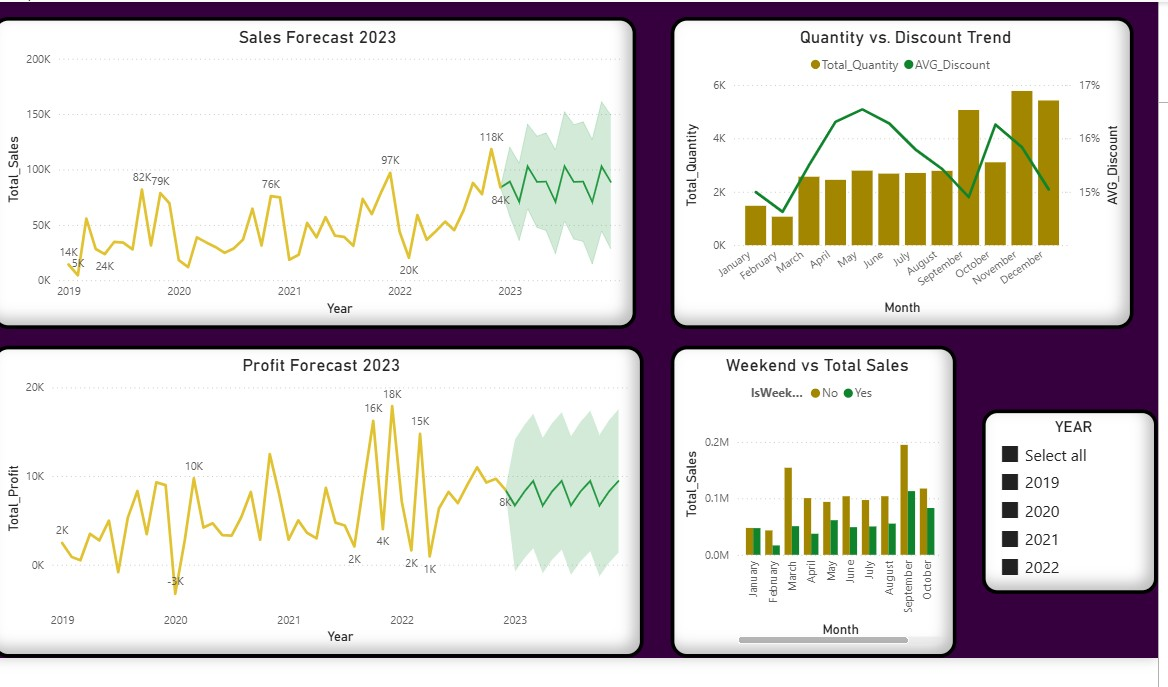

What the dashboard file says about the page in this screenshot:
{"tool":"powerbi","page":{"name":"Sales & Profit Trends","canvas":[1280,720],"ordinal":1},"visuals":[{"type":"lineChart","title":"Sales Forecast 2023","fields":{"Y":["superstore_dataset.Total_Sales"],"Category":["DateTable.Date.Variation.Date Hierarchy.Year","DateTable.Date.Variation.Date Hierarchy.Month"]},"box":[0,16.9,707,342.6],"z":0},{"type":"lineChart","title":"Profit Forecast 2023","fields":{"Category":["DateTable.Date.Variation.Date Hierarchy.Year","DateTable.Date.Variation.Date Hierarchy.Month"],"Y":["superstore_dataset.Total_Profit"]},"box":[0,377.6,715.4,342.6],"z":1000},{"type":"lineStackedColumnComboChart","title":"Quantity vs. Discount Trend","fields":{"Category":["DateTable.Date.Variation.Date Hierarchy.Month"],"Y":["superstore_dataset.Total_Quantity"],"Y2":["superstore_dataset.AVG_Discount"]},"box":[745.6,16.9,507.9,342.6],"z":2000},{"type":"slicer","title":"YEAR","fields":{"Values":["DateTable.Date.Variation.Date Hierarchy.Year"]},"box":[1087,447.6,193,202.7],"z":3000},{"type":"lineClusteredColumnComboChart","title":"Weekend vs Total Sales","fields":{"Category":["DateTable.Date.Variation.Date Hierarchy.Month"],"Series":["DateTable.IsWeekend"],"Y":["superstore_dataset.Total_Sales"]},"box":[745.6,377.6,313.7,342.6],"z":4000}]}

Visuals, with their boxes in screenshot pixels (x1, y1, x2, y2):
"Sales Forecast 2023" lineChart: 0,18,636,327
"Profit Forecast 2023" lineChart: 0,343,644,651
"Quantity vs. Discount Trend" lineStackedColumnComboChart: 671,18,1128,327
"YEAR" slicer: 978,406,1152,588
"Weekend vs Total Sales" lineClusteredColumnComboChart: 671,343,953,651
